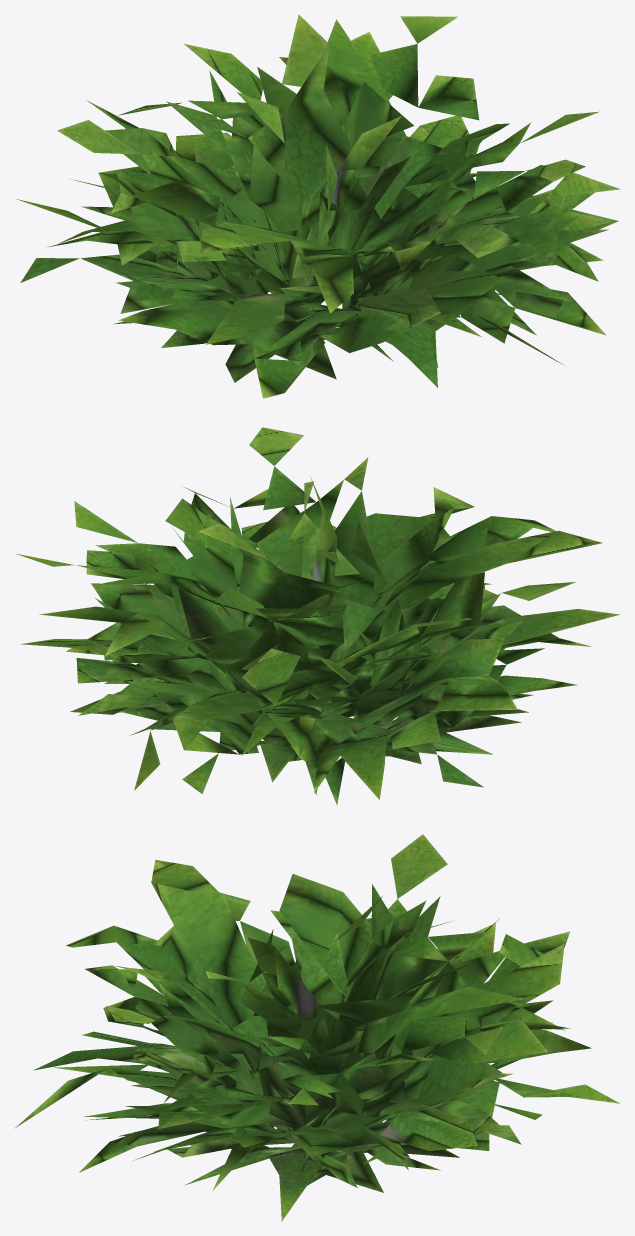
File: fern-clump.glb
3 renders of one model, top to bottom at view 1: azimuth 30°, elevation 25°; view 2: azimuth 150°, elevation 25°; view 3: azimuth 270°, elevation 25°, orthographic. The views are drawn at different scales.
Size of the model in its own units: 1.71 by 0.7342 by 1.83.
1 material, 1 textured.
